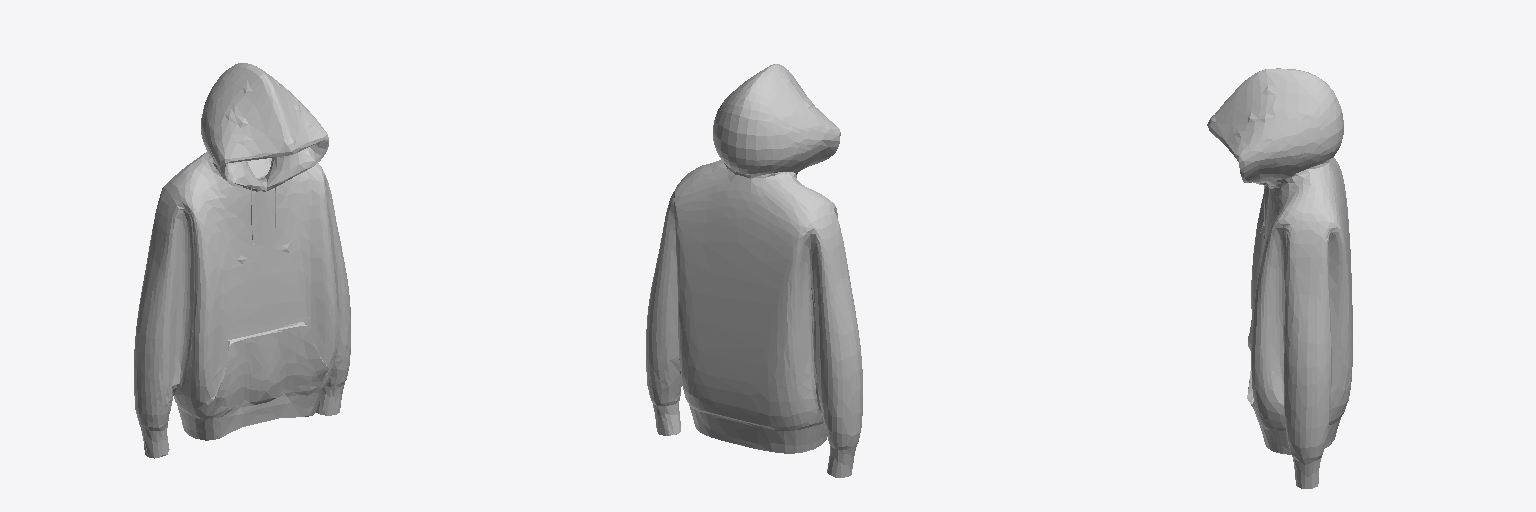
File: downsampled_polka.obj
3 views of the same model, side by side, from view 1: azimuth 30°, elevation 25°; view 2: azimuth 150°, elevation 25°; view 3: azimuth 270°, elevation 25° (orthographic).
Bounding box in the file's own units: 1.12 × 1.9 × 0.67.